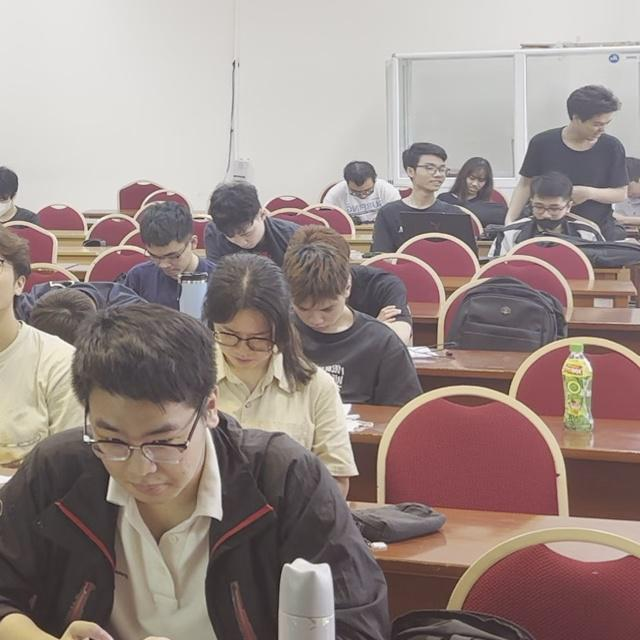Looking away: (99, 401, 184, 504), (0, 149, 29, 272), (213, 312, 270, 368), (293, 293, 350, 334), (146, 239, 196, 280), (227, 213, 264, 253), (527, 195, 564, 231), (581, 106, 616, 144), (461, 163, 492, 196), (419, 160, 447, 191), (349, 173, 372, 202)
Looking forward: (0, 243, 25, 329)
